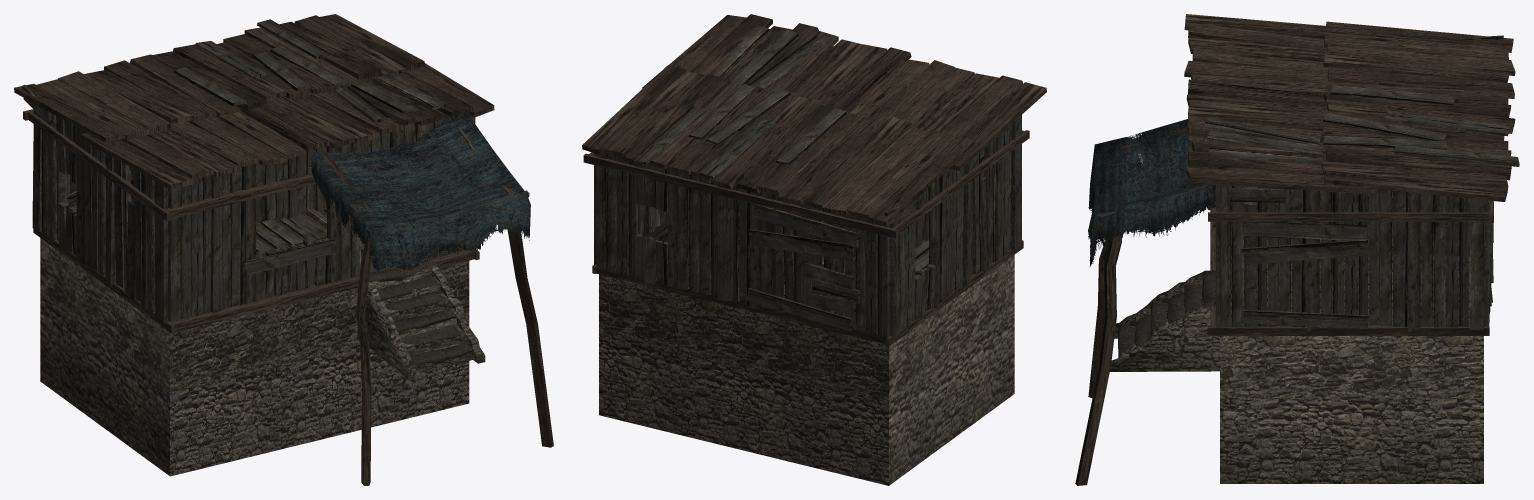
File: G3_Myrtana_House_Hut_02.obj
3 views of the same model, side by side, from view 1: azimuth 30°, elevation 25°; view 2: azimuth 150°, elevation 25°; view 3: azimuth 270°, elevation 25° (orthographic). The views are drawn at different scales.
Visible parts, largest first — view 1: G3_Myrtana_House_Hut_02_0, G3_Myrtana_House_Hut_02_3, G3_Myrtana_House_Hut_02_2, G3_Myrtana_House_Hut_02_1, G3_Myrtana_House_Hut_02_4; view 2: G3_Myrtana_House_Hut_02_0, G3_Myrtana_House_Hut_02_3, G3_Myrtana_House_Hut_02_2; view 3: G3_Myrtana_House_Hut_02_3, G3_Myrtana_House_Hut_02_2, G3_Myrtana_House_Hut_02_0, G3_Myrtana_House_Hut_02_1, G3_Myrtana_House_Hut_02_4.
Boxes of the visible parts, x1,y1,x2,y2 form: G3_Myrtana_House_Hut_02_0: (40, 238, 485, 476); G3_Myrtana_House_Hut_02_3: (14, 14, 553, 485); G3_Myrtana_House_Hut_02_2: (22, 19, 475, 323); G3_Myrtana_House_Hut_02_1: (310, 114, 530, 270); G3_Myrtana_House_Hut_02_4: (368, 258, 472, 365); G3_Myrtana_House_Hut_02_0: (599, 255, 1014, 485); G3_Myrtana_House_Hut_02_3: (582, 14, 1046, 345); G3_Myrtana_House_Hut_02_2: (594, 25, 1021, 337); G3_Myrtana_House_Hut_02_3: (1075, 14, 1515, 485); G3_Myrtana_House_Hut_02_2: (1204, 35, 1519, 332); G3_Myrtana_House_Hut_02_0: (1110, 271, 1483, 483); G3_Myrtana_House_Hut_02_1: (1088, 119, 1215, 266); G3_Myrtana_House_Hut_02_4: (1118, 270, 1215, 357).
Bounding box in the file's own units: 9.09 × 8.26 × 10.41.
